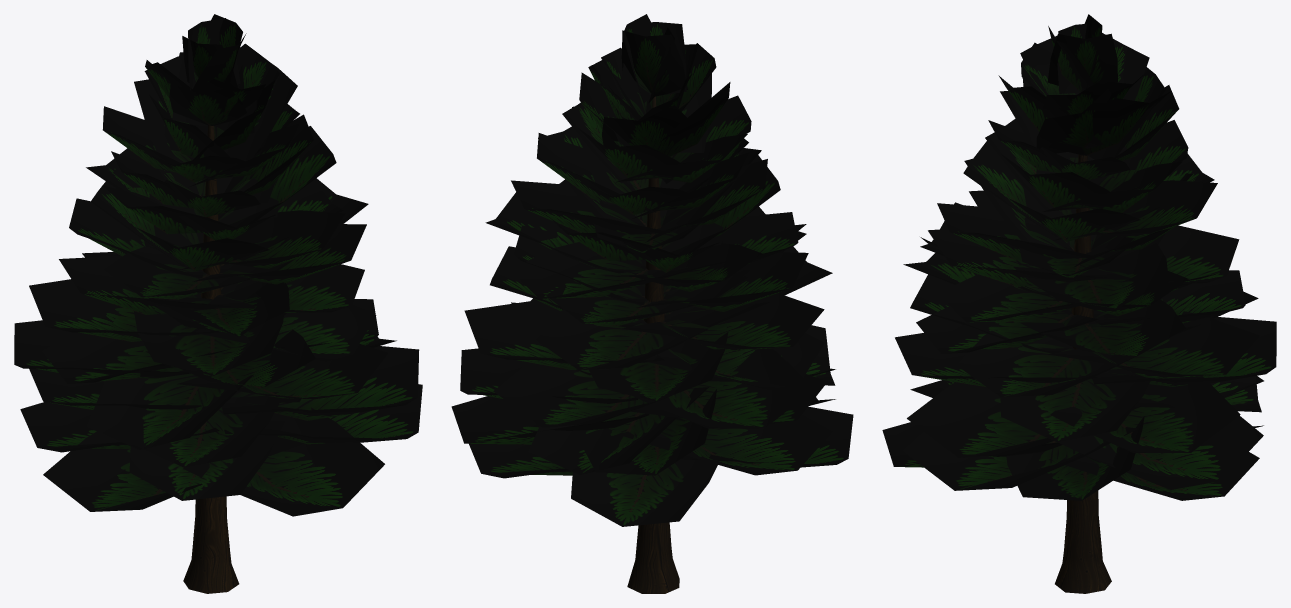
The model's file is Tree02.fbx.
3 views of the same model, side by side, from view 1: azimuth 30°, elevation 25°; view 2: azimuth 150°, elevation 25°; view 3: azimuth 270°, elevation 25° (orthographic).
Parts seen in each view (by area): view 1: Tree01_LOD0, Branch; view 2: Tree01_LOD0; view 3: Tree01_LOD0.
Boxes of the visible parts, <box> form: Tree01_LOD0: <box>14,14,422,593</box>; Branch: <box>151,282,289,337</box>; Tree01_LOD0: <box>451,14,853,593</box>; Tree01_LOD0: <box>882,14,1276,593</box>.
Size of what is drawn, in the model's own units: 512 by 772 by 493.
2 materials, 2 textured.
